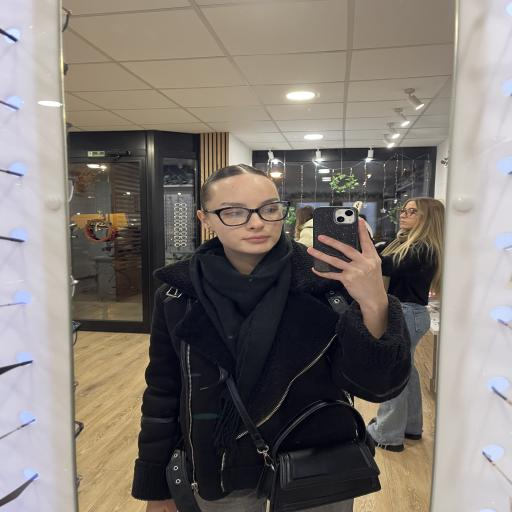marija: (205, 178, 288, 255)
